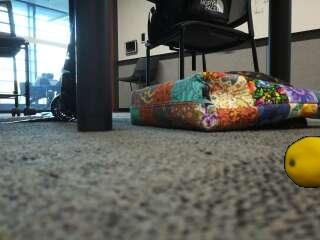lemon: (287, 137, 320, 187)
